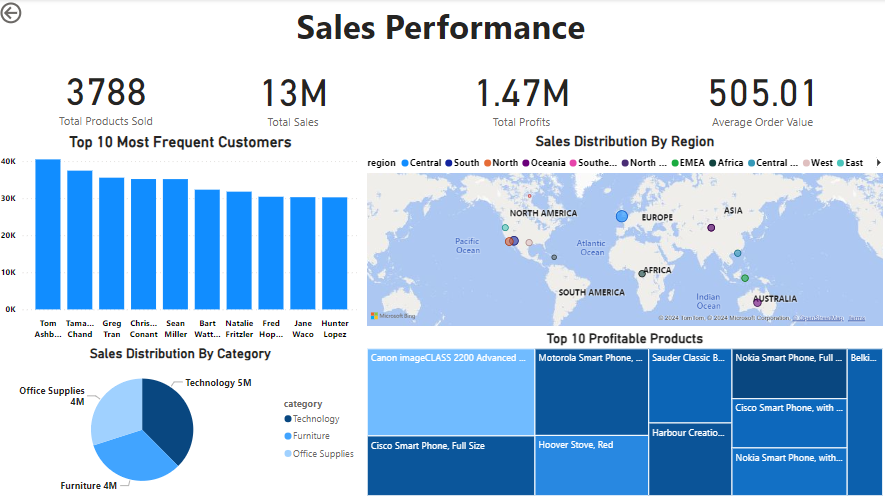

This screenshot's page, from the dashboard's own definition file:
{"tool":"powerbi","page":{"name":"Page 1","canvas":[1280,720],"ordinal":0},"visuals":[{"type":"textbox","box":[344.2,0,590.4,82.1],"z":0},{"type":"card","fields":{"Values":["sales_performance.Total Sales"]},"box":[71.7,81.7,205,111.7],"z":1000},{"type":"card","fields":{"Values":["sales_performance.Total Profits"]},"box":[528.3,81.7,231.7,111.7],"z":2000},{"type":"card","fields":{"Values":["sales_performance.Average Order Value"]},"box":[934.6,82.1,211.7,110.9],"z":3000},{"type":"actionButton","box":[0,0,100,40],"z":4000},{"type":"columnChart","title":"Top 10 Most Frequent Customers","fields":{"Category":["sales_performance.customer_name"],"Y":["Sum(sales_performance.sales)"]},"box":[0,193.3,528.3,305],"z":5000},{"type":"map","title":"Sales Distribution By Region","fields":{"Size":["Sum(sales_performance.sales)"],"Category":["sales_performance.region"],"Series":["sales_performance.region"]},"box":[528.3,193.3,751.7,283.3],"z":6000},{"type":"pieChart","title":"Sales Distribution By Category","fields":{"Y":["Sum(sales_performance.sales)"],"Category":["sales_performance.category"]},"box":[0,498,528,222],"z":7000},{"type":"treemap","title":"Top 10 Profitable Products","fields":{"Group":["sales_performance.product_name"],"Values":["Sum(sales_performance.profit)"]},"box":[528.3,476.7,751.7,243.3],"z":8000}]}

Visuals, with their boxes in screenshot pixels (x1, y1, x2, y2), scaled from the page's 1280x720 canvas onto the 885x496 screenshot:
textbox: 238:0:646:57
card - sales_performance.Total Sales: 50:56:191:133
card - sales_performance.Total Profits: 365:56:525:133
card - sales_performance.Average Order Value: 646:57:793:133
actionButton: 0:0:69:28
"Top 10 Most Frequent Customers" columnChart: 0:133:365:343
"Sales Distribution By Region" map: 365:133:884:328
"Sales Distribution By Category" pieChart: 0:343:365:495
"Top 10 Profitable Products" treemap: 365:328:884:495
